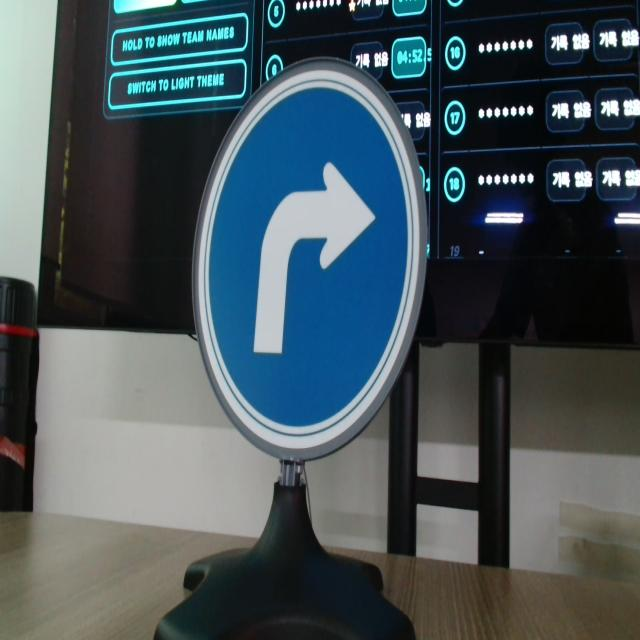right_dierection: (185, 52, 431, 462)
